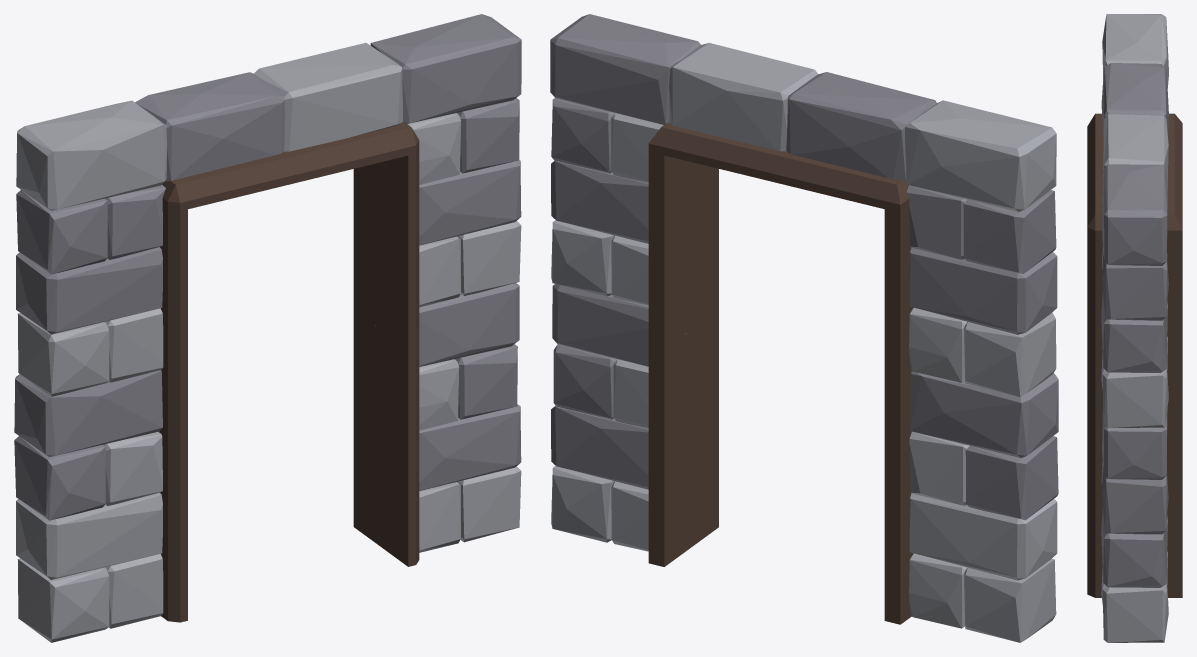
The model's file is fantasy_wall_stone_4_door.fbx.
3 views of the same model, side by side, from view 1: azimuth 30°, elevation 25°; view 2: azimuth 150°, elevation 25°; view 3: azimuth 270°, elevation 25° (orthographic). The views are drawn at different scales.
Parts seen in each view (by area): view 1: Cube.256; view 2: Cube.256; view 3: Cube.256.
Part boxes in pixels (box(x1,y1,x2,y2)): Cube.256: box(14, 14, 521, 642); Cube.256: box(550, 14, 1058, 642); Cube.256: box(1087, 14, 1182, 642).
Bounding box in the file's own units: 306 × 302 × 60.
